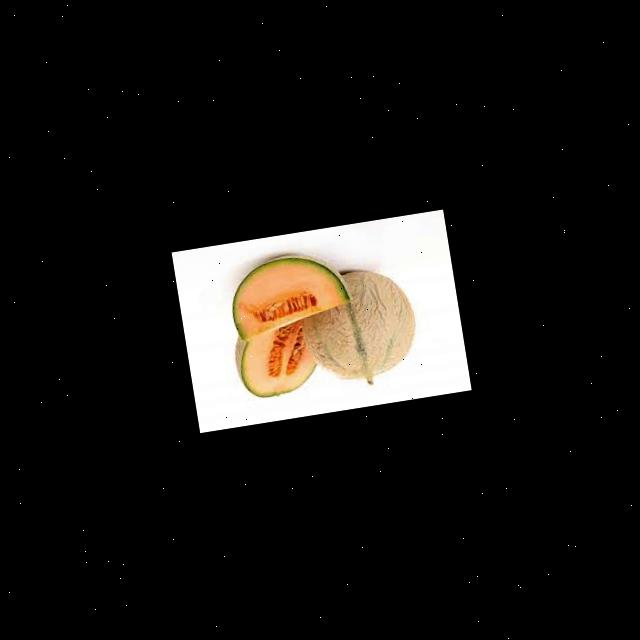Hami Melon: (294, 261, 422, 393), (223, 245, 353, 343), (232, 329, 319, 402)
